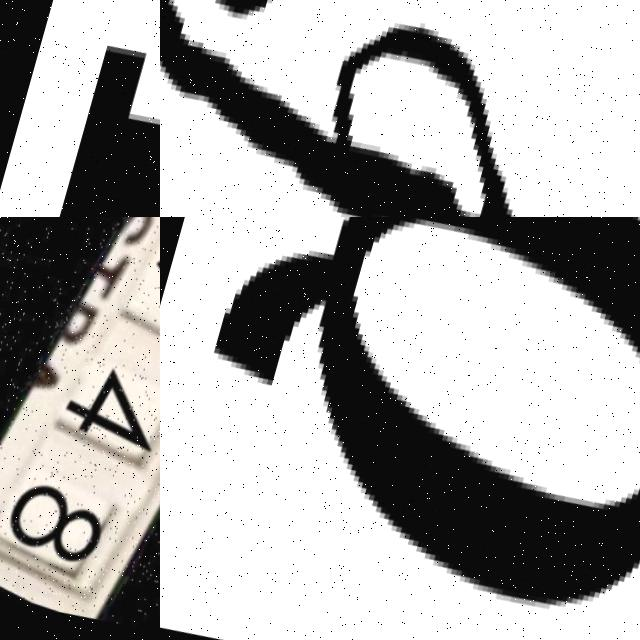4: (43, 335, 160, 488)
7: (114, 227, 160, 379)
8: (0, 448, 134, 600)
I: (160, 0, 460, 217), (28, 2, 160, 217)
Q: (160, 217, 640, 640)
